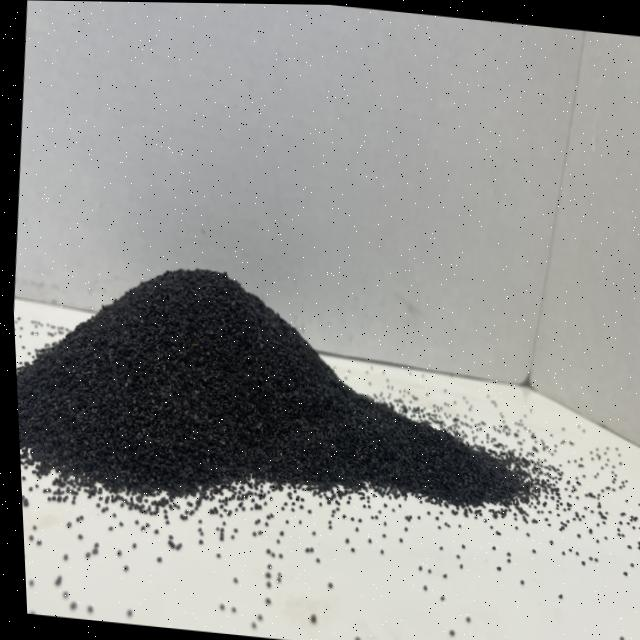Poppy Seeds: (11, 241, 542, 579)
